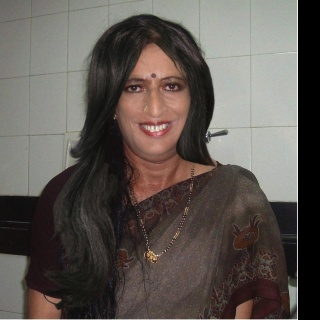without_mask: (113, 40, 192, 161)
